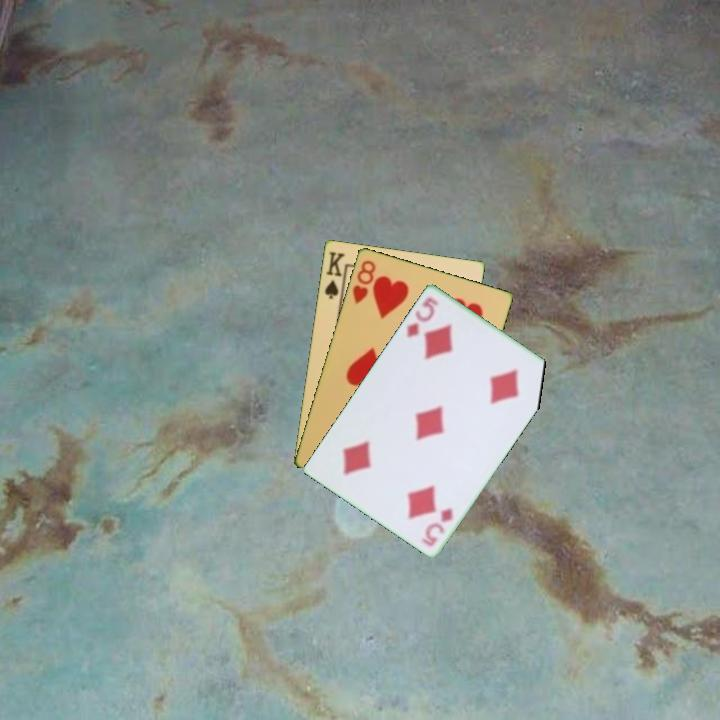5d: (403, 293, 441, 339), (418, 504, 456, 549)
8h: (349, 256, 378, 307)
Ks: (321, 247, 348, 303)
